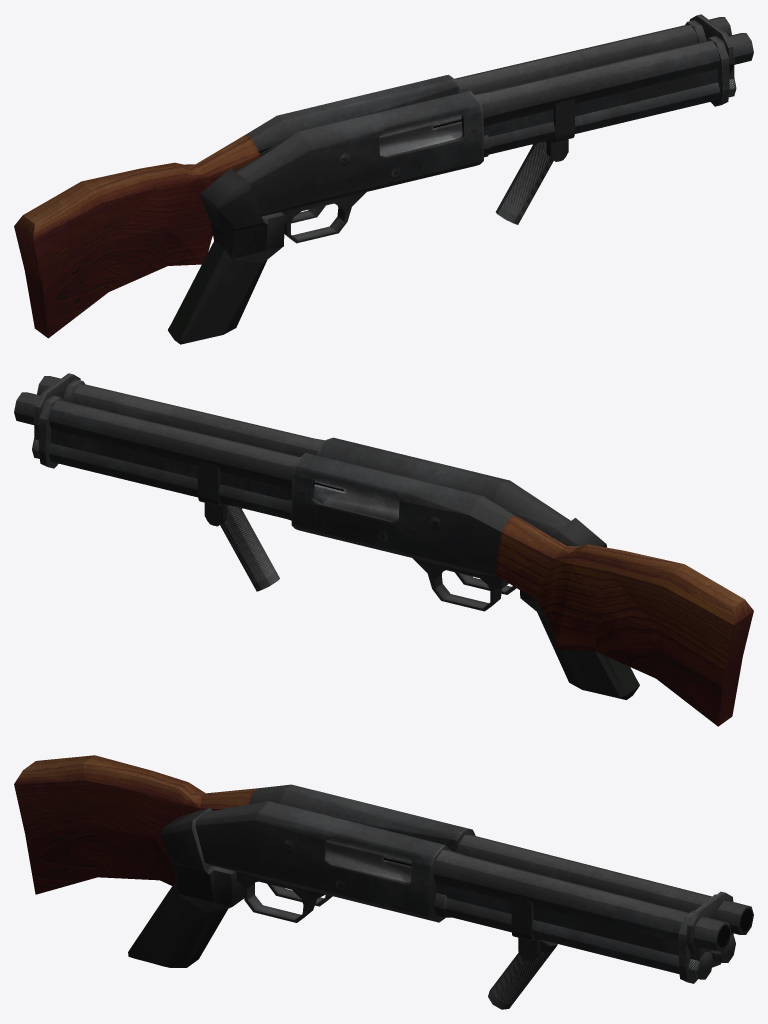
Rendered from shotgun.gltf.
The picture shows the model from 3 angles, top to bottom: view 1: azimuth 30°, elevation 25°; view 2: azimuth 150°, elevation 25°; view 3: azimuth 330°, elevation 25°; orthographic projection. The views are drawn at different scales.
Parts seen in each view (by area): view 1: shotgun_png; view 2: shotgun_png; view 3: shotgun_png.
Part boxes in pixels (bbox=[...]): shotgun_png: bbox=[14, 14, 753, 344]; shotgun_png: bbox=[14, 373, 753, 726]; shotgun_png: bbox=[14, 755, 753, 1009].
Size of the model in its own units: 6.57 by 1.6 by 0.7135.
Materials: 1 (1 with a texture image).
